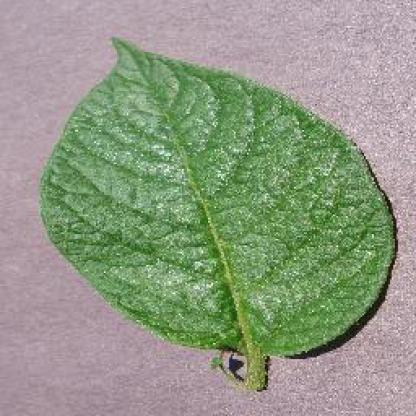good leaf: (44, 23, 410, 375)
